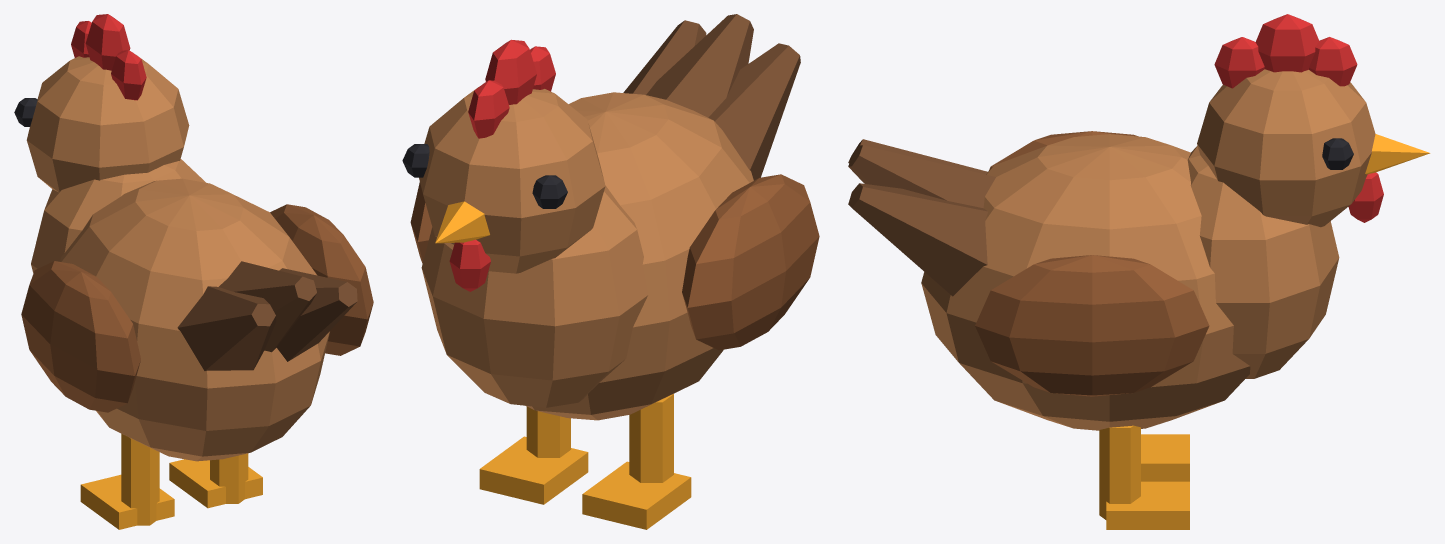
The model's file is ChickenBrown.fbx.
3 views of the same model, side by side, from view 1: azimuth 30°, elevation 25°; view 2: azimuth 150°, elevation 25°; view 3: azimuth 270°, elevation 25° (orthographic). The views are drawn at different scales.
Parts seen in each view (by area): view 1: ChickenBrown; view 2: ChickenBrown; view 3: ChickenBrown.
Part boxes in pixels (x1,y1,x2,y2): ChickenBrown: (14,14,373,529); ChickenBrown: (402,14,819,529); ChickenBrown: (848,14,1430,529).
Bounding box in the file's own units: 29.79 × 42.28 × 46.74.
